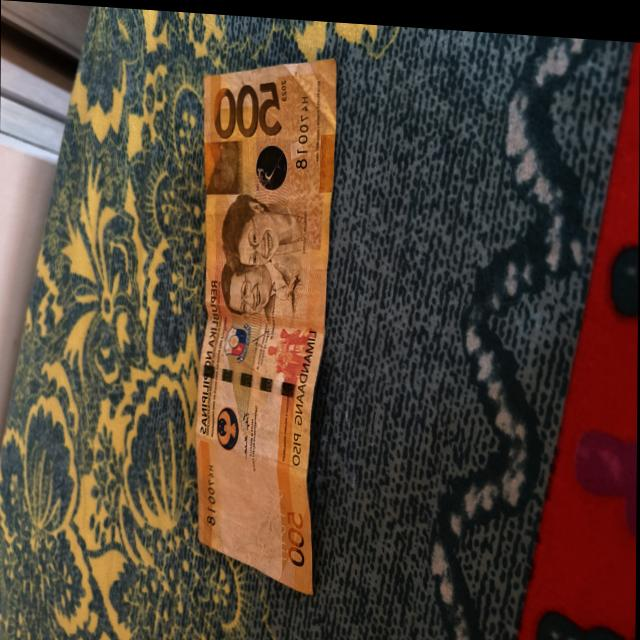concealed_value: (202, 142, 238, 192)
optically_variable_device: (253, 138, 286, 187)
value: (203, 66, 294, 144)
watermark: (213, 456, 283, 575)
